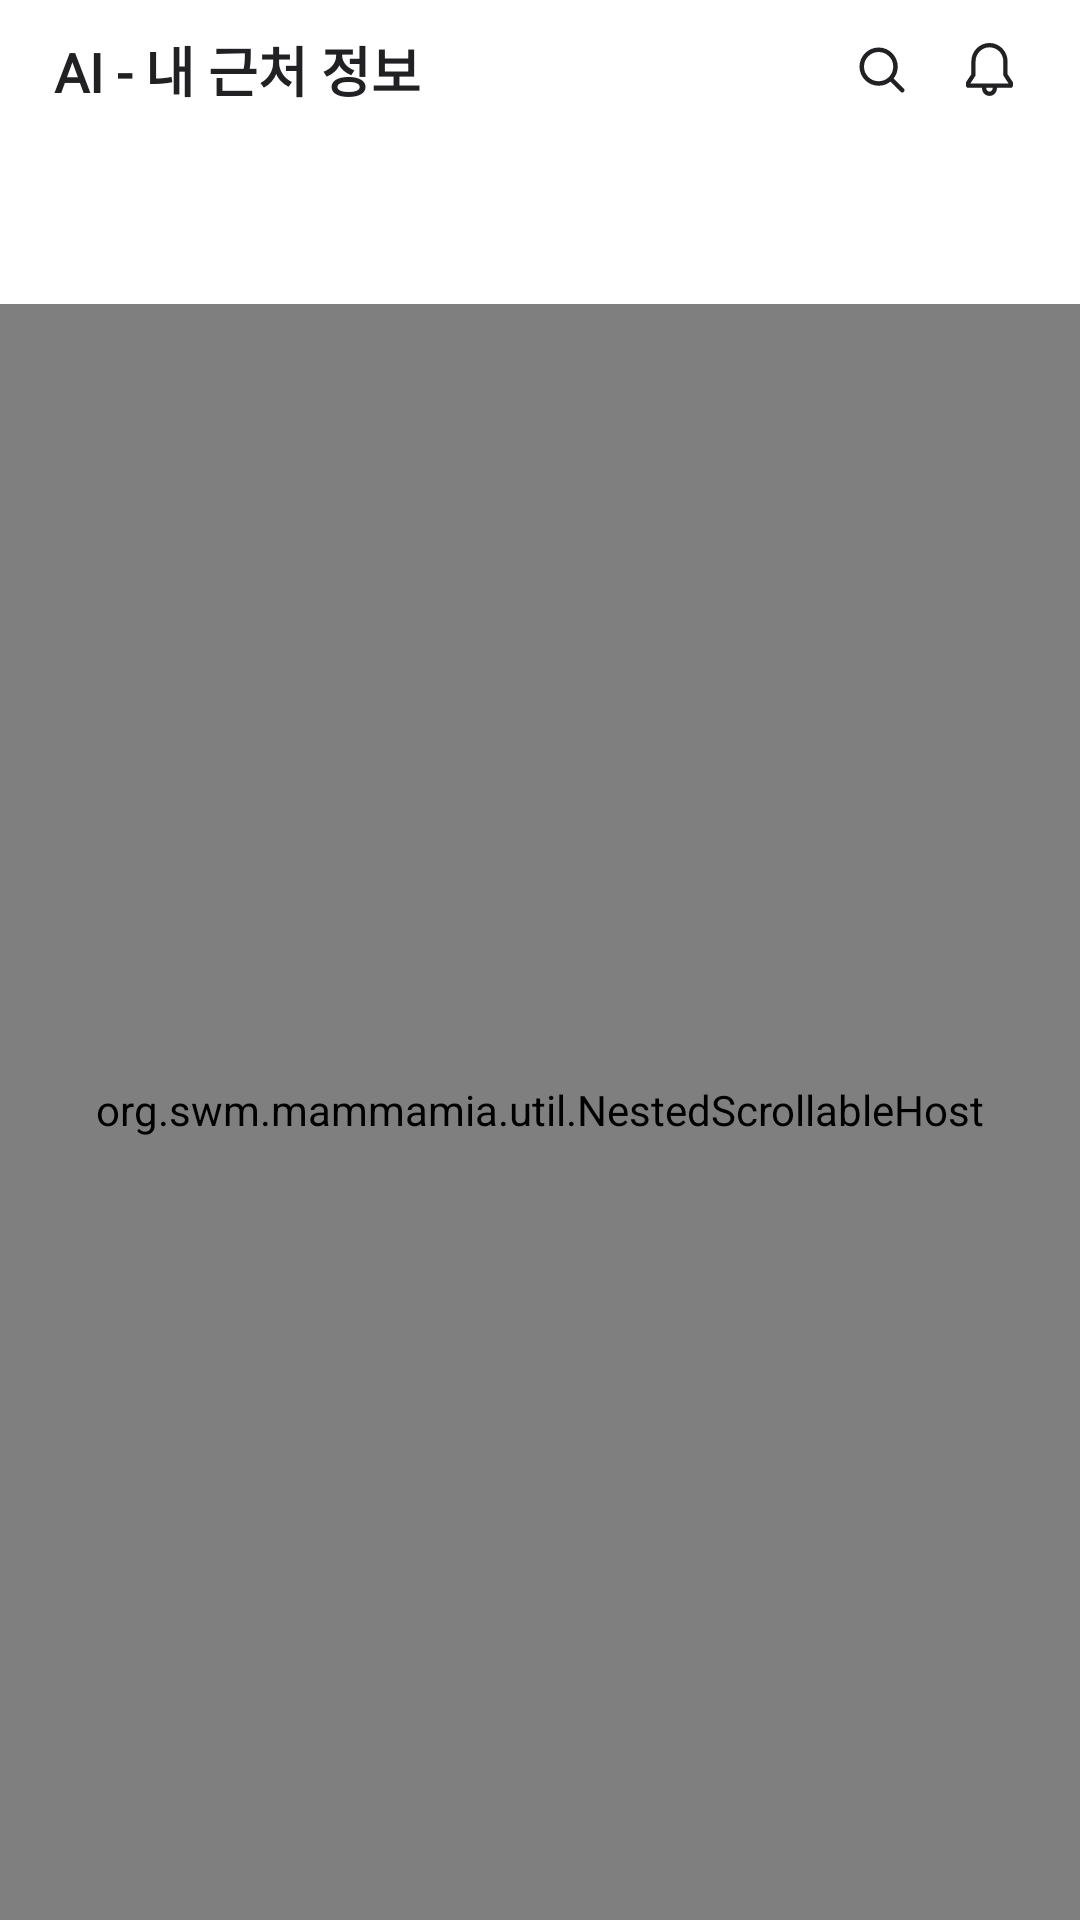

Icons on this 1080px x 1920px Android screen, each with the point to tap as (x=x, y=y):
noti: (x=989, y=69)
search: (x=882, y=70)
